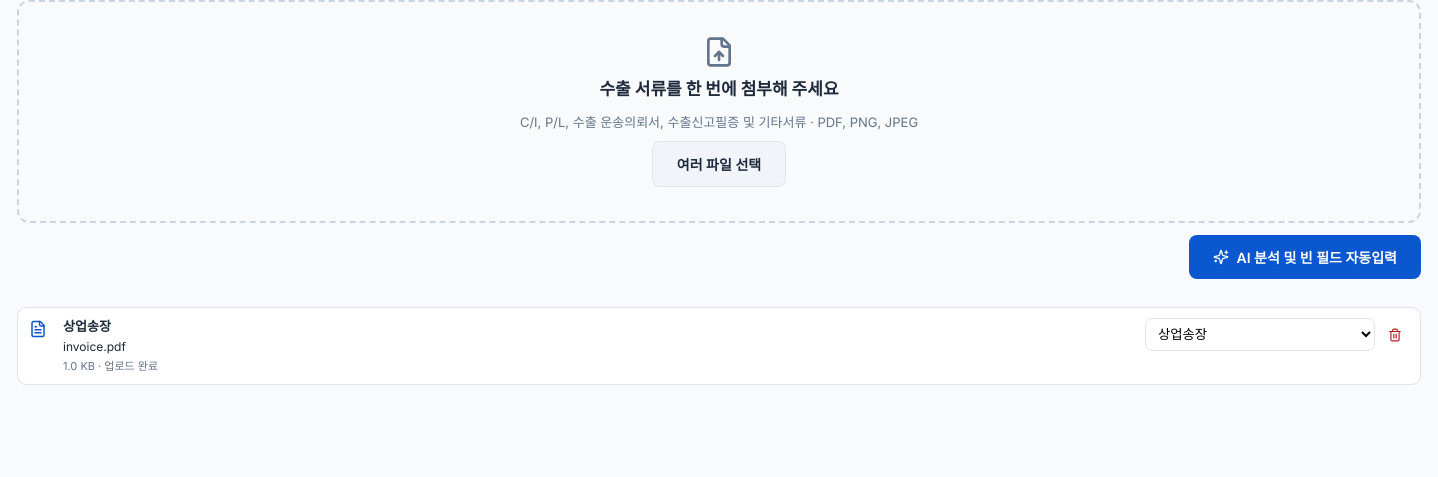
it: 수출 포워더 첨부 uploader › 사용자 입력과 AI 값이 충돌하면 기존값을 유지했다는 상세를 표시한다
This screenshot has width=1438, height=477.
Click the button "AI 분석 및 빈 필드 자동입력": (1305, 257) [1188,235,1421,279]
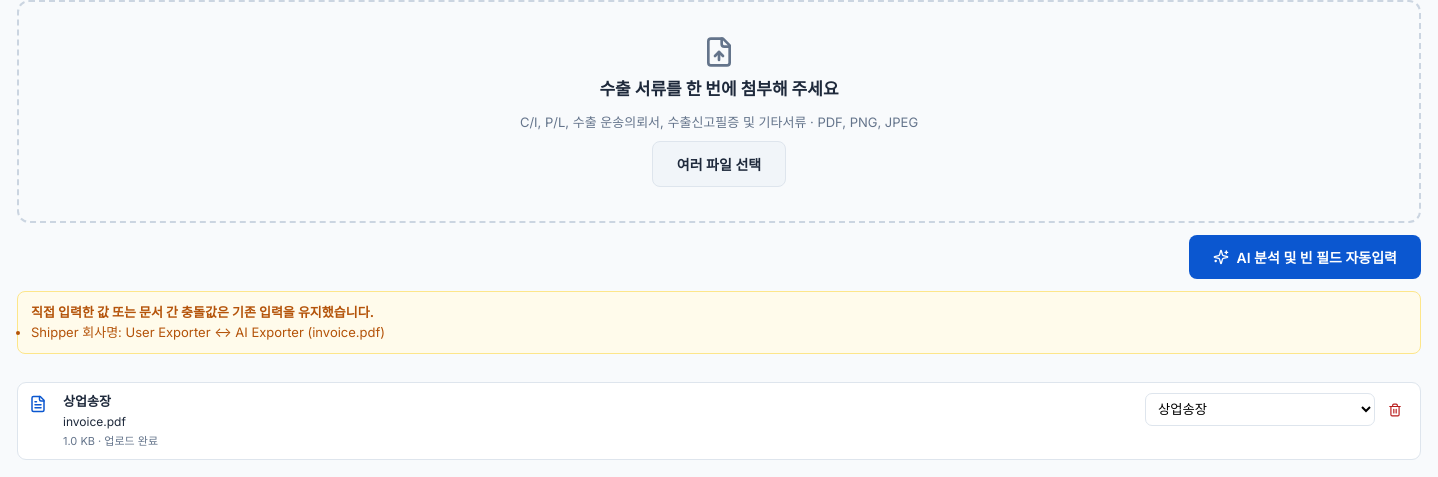
Expected: the text "직접 입력한 값 또는 문서 간 충돌값은 기존 입력을 유지" is shown, [31,304,374,320]
Expected: the text "User Exporter" is shown, [126,324,210,340]
Expected: the text "AI Exporter" is shown, [235,324,304,340]
